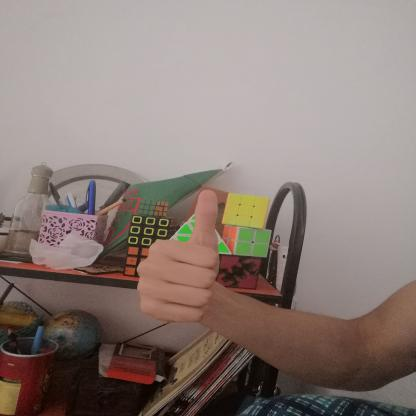ALIF: (124, 179, 238, 338)
